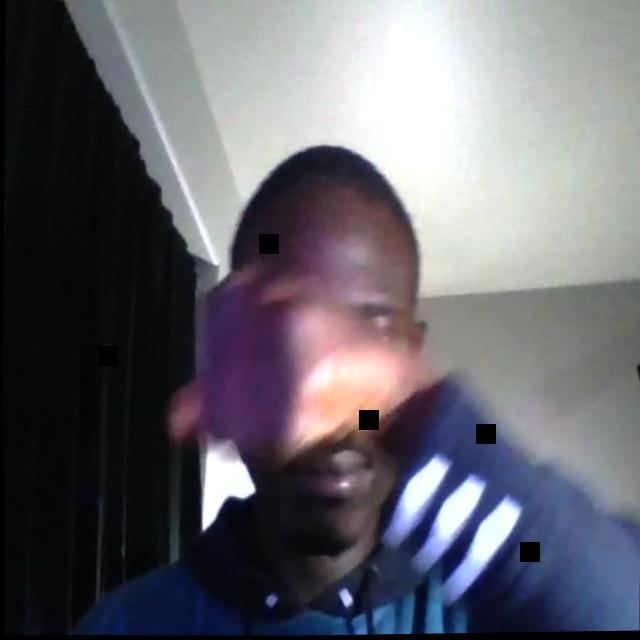NO-Mask: (229, 228, 414, 556)
